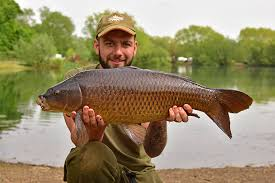carp: (36, 65, 254, 140)
